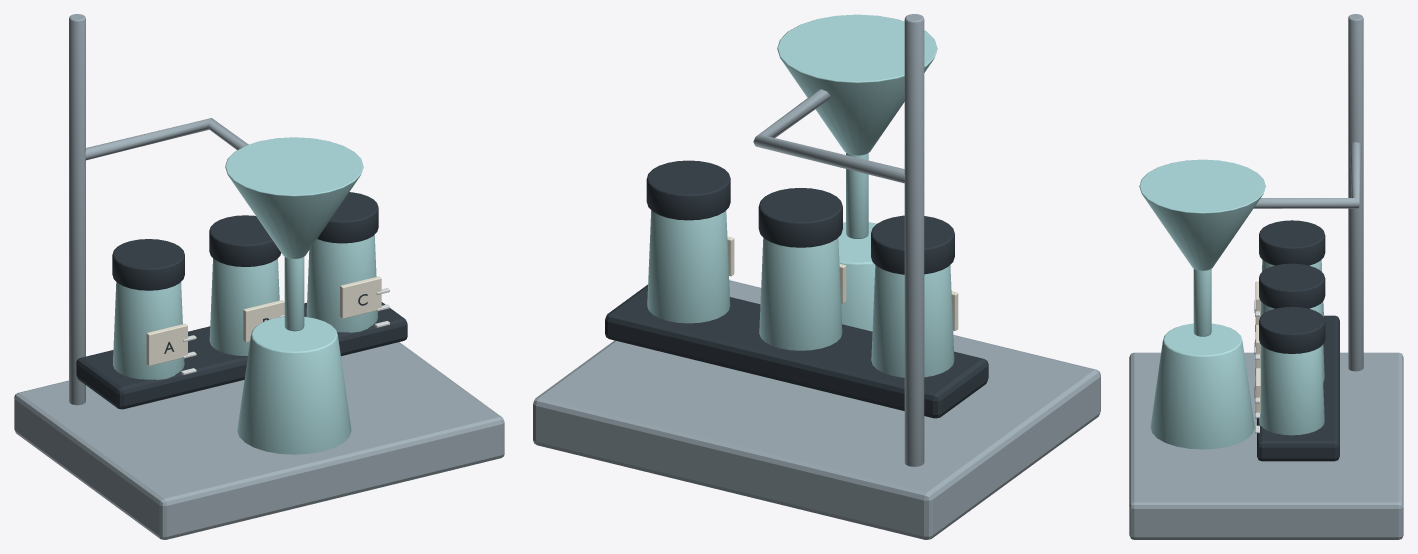
The model's file is separation.glb.
3 renders of one model, left to right at view 1: azimuth 30°, elevation 25°; view 2: azimuth 150°, elevation 25°; view 3: azimuth 270°, elevation 25°, orthographic. The views are drawn at different scales.
Visible parts, largest first — view 1: Chemical spill tray, Receiver, Funnel, Rack, Support rod, Sample bottle, Sample bottle.002, Sample bottle.001, Cap, Cap.001, Cap.002, Support arm (+4 smaller); view 2: Chemical spill tray, Rack, Funnel, Support rod, Sample bottle.001, Sample bottle.002, Sample bottle, Cap.001, Cap.002, Cap, Support arm, Receiver (+1 smaller); view 3: Chemical spill tray, Receiver, Funnel, Sample bottle.002, Support rod, Rack, Cap.002, Cap, Cap.001, Support arm, Funnel stem.
Boxes of the visible parts, x1=… form: Chemical spill tray: x1=14, y1=342, x2=504, y2=539; Receiver: x1=237, y1=316, x2=351, y2=454; Funnel: x1=225, y1=137, x2=363, y2=258; Rack: x1=76, y1=302, x2=407, y2=409; Support rod: x1=69, y1=14, x2=85, y2=405; Sample bottle: x1=113, y1=282, x2=184, y2=379; Sample bottle.002: x1=306, y1=235, x2=378, y2=332; Sample bottle.001: x1=209, y1=258, x2=279, y2=355; Cap: x1=112, y1=239, x2=184, y2=290; Cap.001: x1=209, y1=215, x2=281, y2=266; Cap.002: x1=317, y1=192, x2=378, y2=243; Support arm: x1=85, y1=118, x2=248, y2=160; Chemical spill tray: x1=533, y1=280, x2=1100, y2=539; Rack: x1=605, y1=284, x2=988, y2=418; Funnel: x1=777, y1=14, x2=937, y2=155; Support rod: x1=904, y1=14, x2=924, y2=466; Sample bottle.001: x1=759, y1=238, x2=842, y2=350; Sample bottle.002: x1=647, y1=210, x2=730, y2=323; Sample bottle: x1=871, y1=265, x2=954, y2=377; Cap.001: x1=758, y1=188, x2=842, y2=247; Cap.002: x1=646, y1=160, x2=730, y2=220; Cap: x1=871, y1=215, x2=954, y2=274; Support arm: x1=753, y1=89, x2=905, y2=183; Receiver: x1=838, y1=222, x2=876, y2=331; Chemical spill tray: x1=1129, y1=352, x2=1403, y2=539; Receiver: x1=1150, y1=323, x2=1254, y2=449; Funnel: x1=1139, y1=159, x2=1265, y2=270; Sample bottle.002: x1=1259, y1=346, x2=1324, y2=435; Support rod: x1=1348, y1=14, x2=1363, y2=371; Rack: x1=1257, y1=315, x2=1339, y2=461; Cap.002: x1=1259, y1=306, x2=1325, y2=353; Cap: x1=1259, y1=220, x2=1325, y2=265; Cap.001: x1=1259, y1=263, x2=1325, y2=308; Support arm: x1=1254, y1=142, x2=1361, y2=208; Funnel stem: x1=1193, y1=269, x2=1211, y2=336.
Bounding box in the file's own units: 0.57 × 0.6725 × 0.43.
